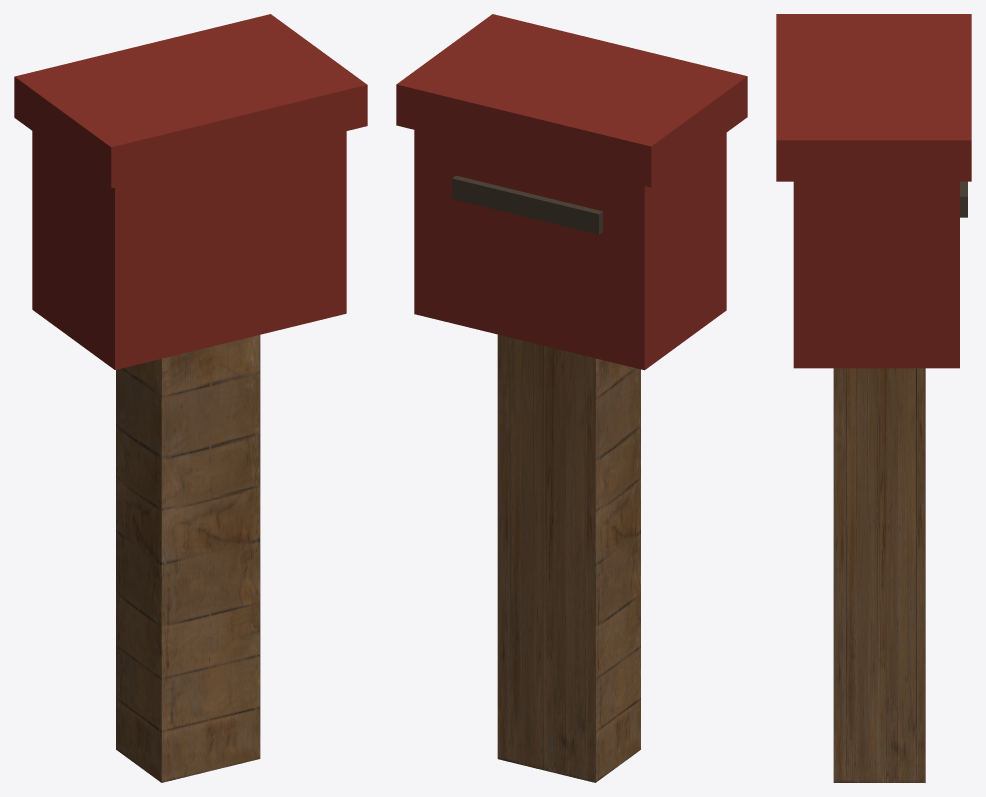
Rendered from village-mailbox.obj.
3 renders of one model, left to right at view 1: azimuth 30°, elevation 25°; view 2: azimuth 150°, elevation 25°; view 3: azimuth 270°, elevation 25°, orthographic.
Bounding box in the file's own units: 0.52 × 1.31 × 0.34.
Materials: 3 (1 with a texture image).
